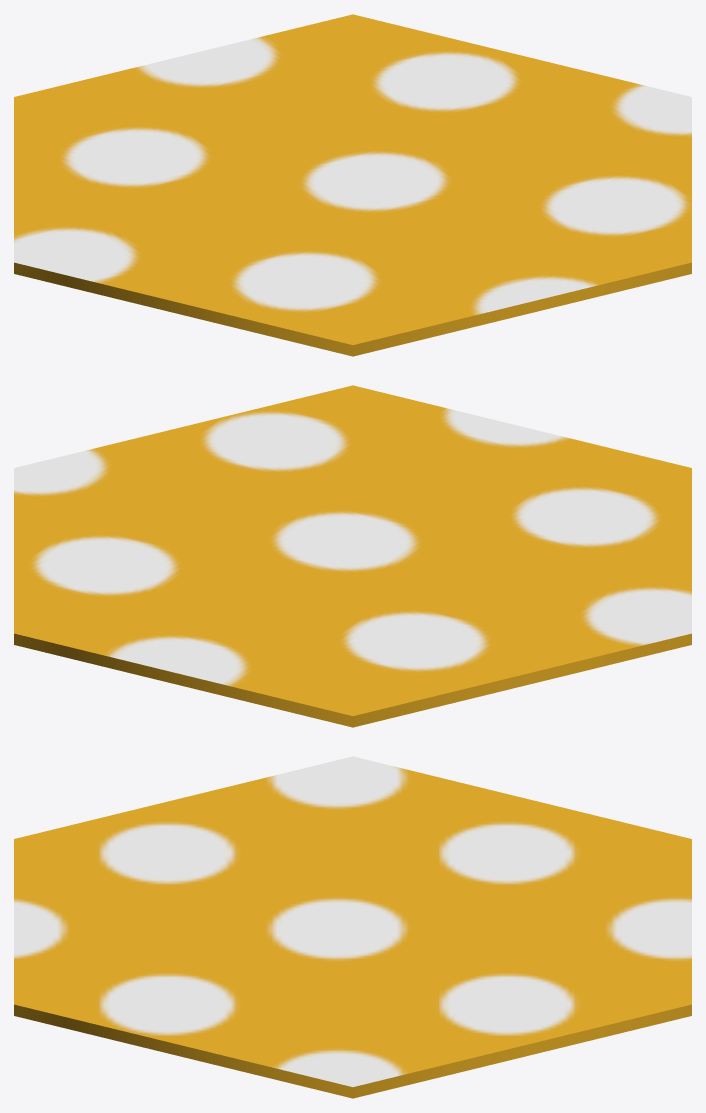
3 renders of one model, top to bottom at view 1: azimuth 30°, elevation 25°; view 2: azimuth 150°, elevation 25°; view 3: azimuth 270°, elevation 25°, orthographic.
Visible parts, largest first — view 1: Mat_A; view 2: Mat_A; view 3: Mat_A.
Part boxes in pixels (<box>): Mat_A: <box>14,14,691,356</box>; Mat_A: <box>14,385,691,727</box>; Mat_A: <box>14,756,691,1098</box>.
Size of the model in its own units: 210 by 3.38 by 182.
